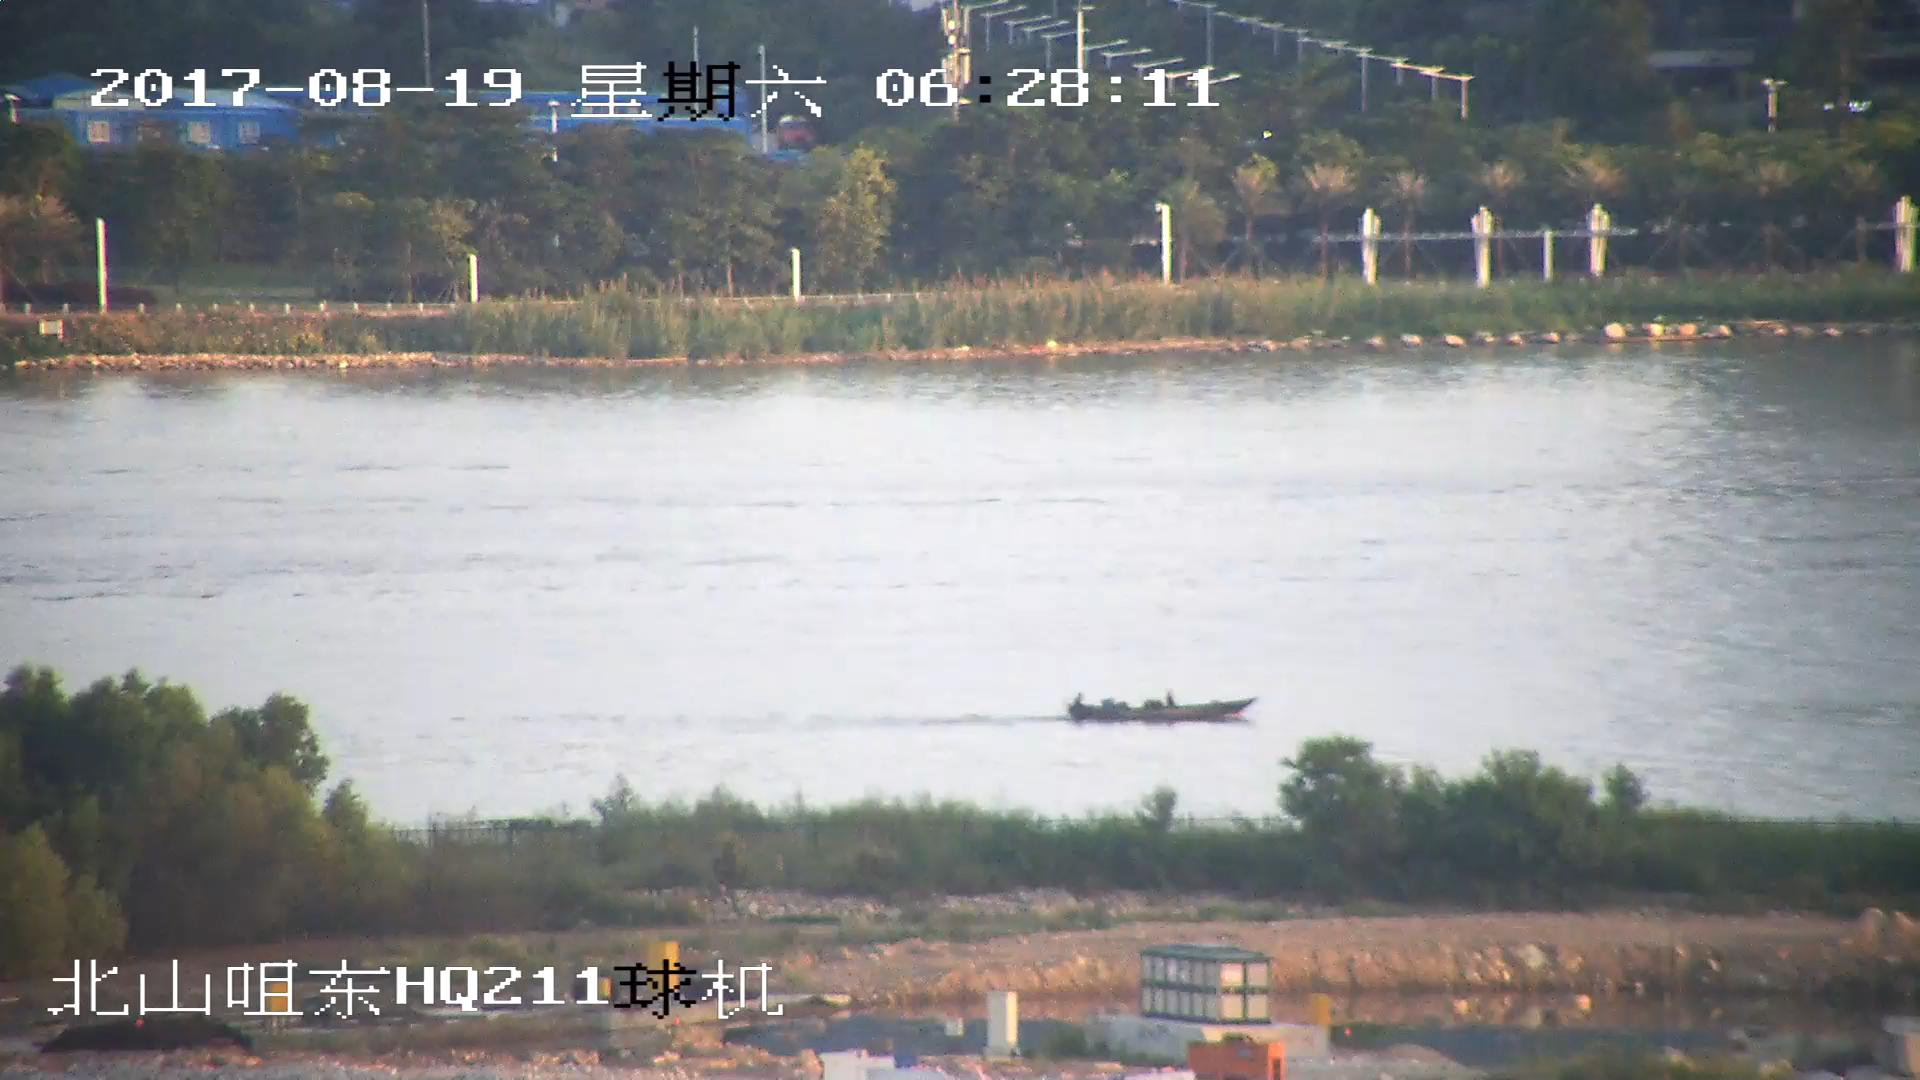fishing boat: (1068, 689, 1259, 722)
